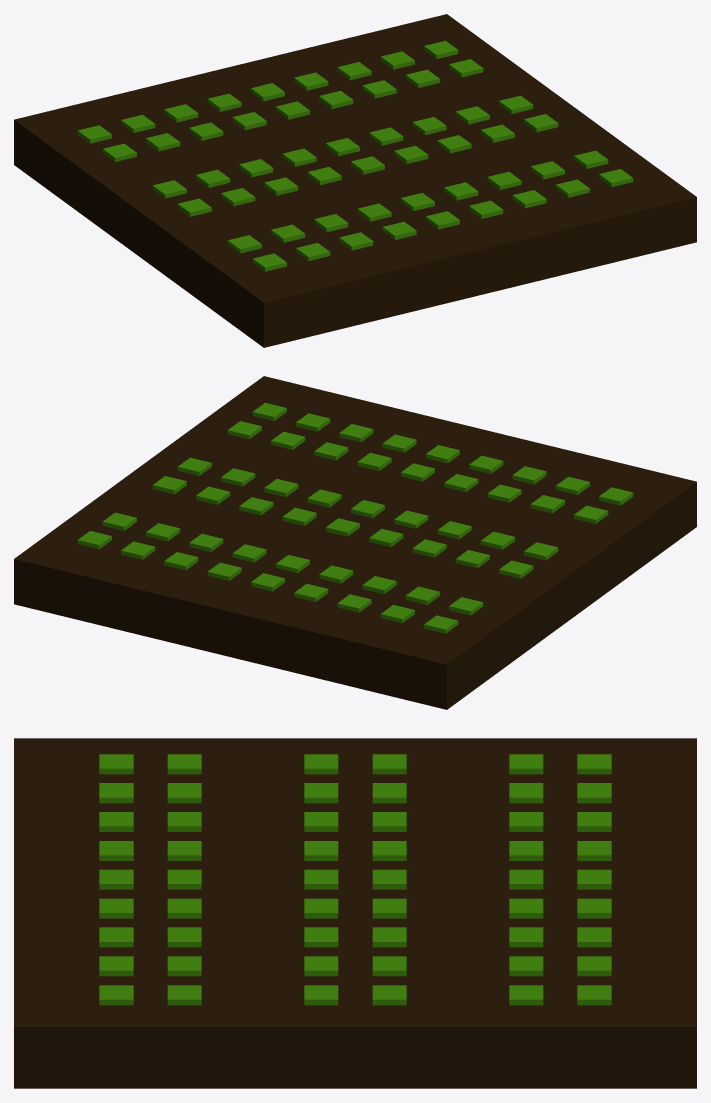
The model's file is Crop1.obj.
The picture shows the model from 3 angles, top to bottom: view 1: azimuth 30°, elevation 25°; view 2: azimuth 150°, elevation 25°; view 3: azimuth 270°, elevation 25°; orthographic projection. The views are drawn at different scales.
Visible parts, largest first — view 1: CropBare001, Box634; view 2: CropBare001, Box634; view 3: CropBare001, Box634.
Part boxes in pixels (x1,y1,x2,y2): CropBare001: (14,14,696,347); Box634: (77,40,633,271); CropBare001: (14,376,696,709); Box634: (77,402,633,633); CropBare001: (14,738,696,1088); Box634: (99,754,611,1005).
Bounding box in the file's own units: 10 × 1.09 × 10.
